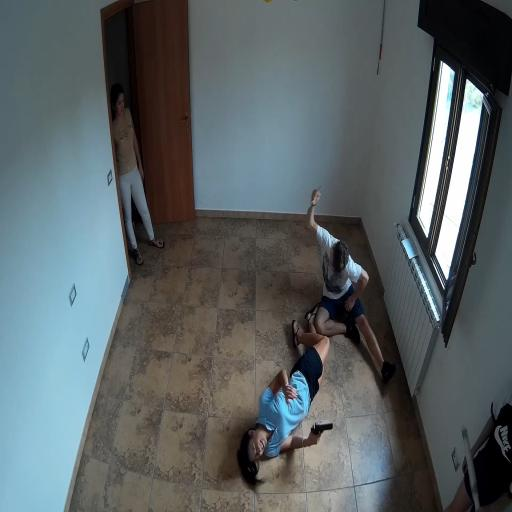violencia: (210, 178, 414, 504)
